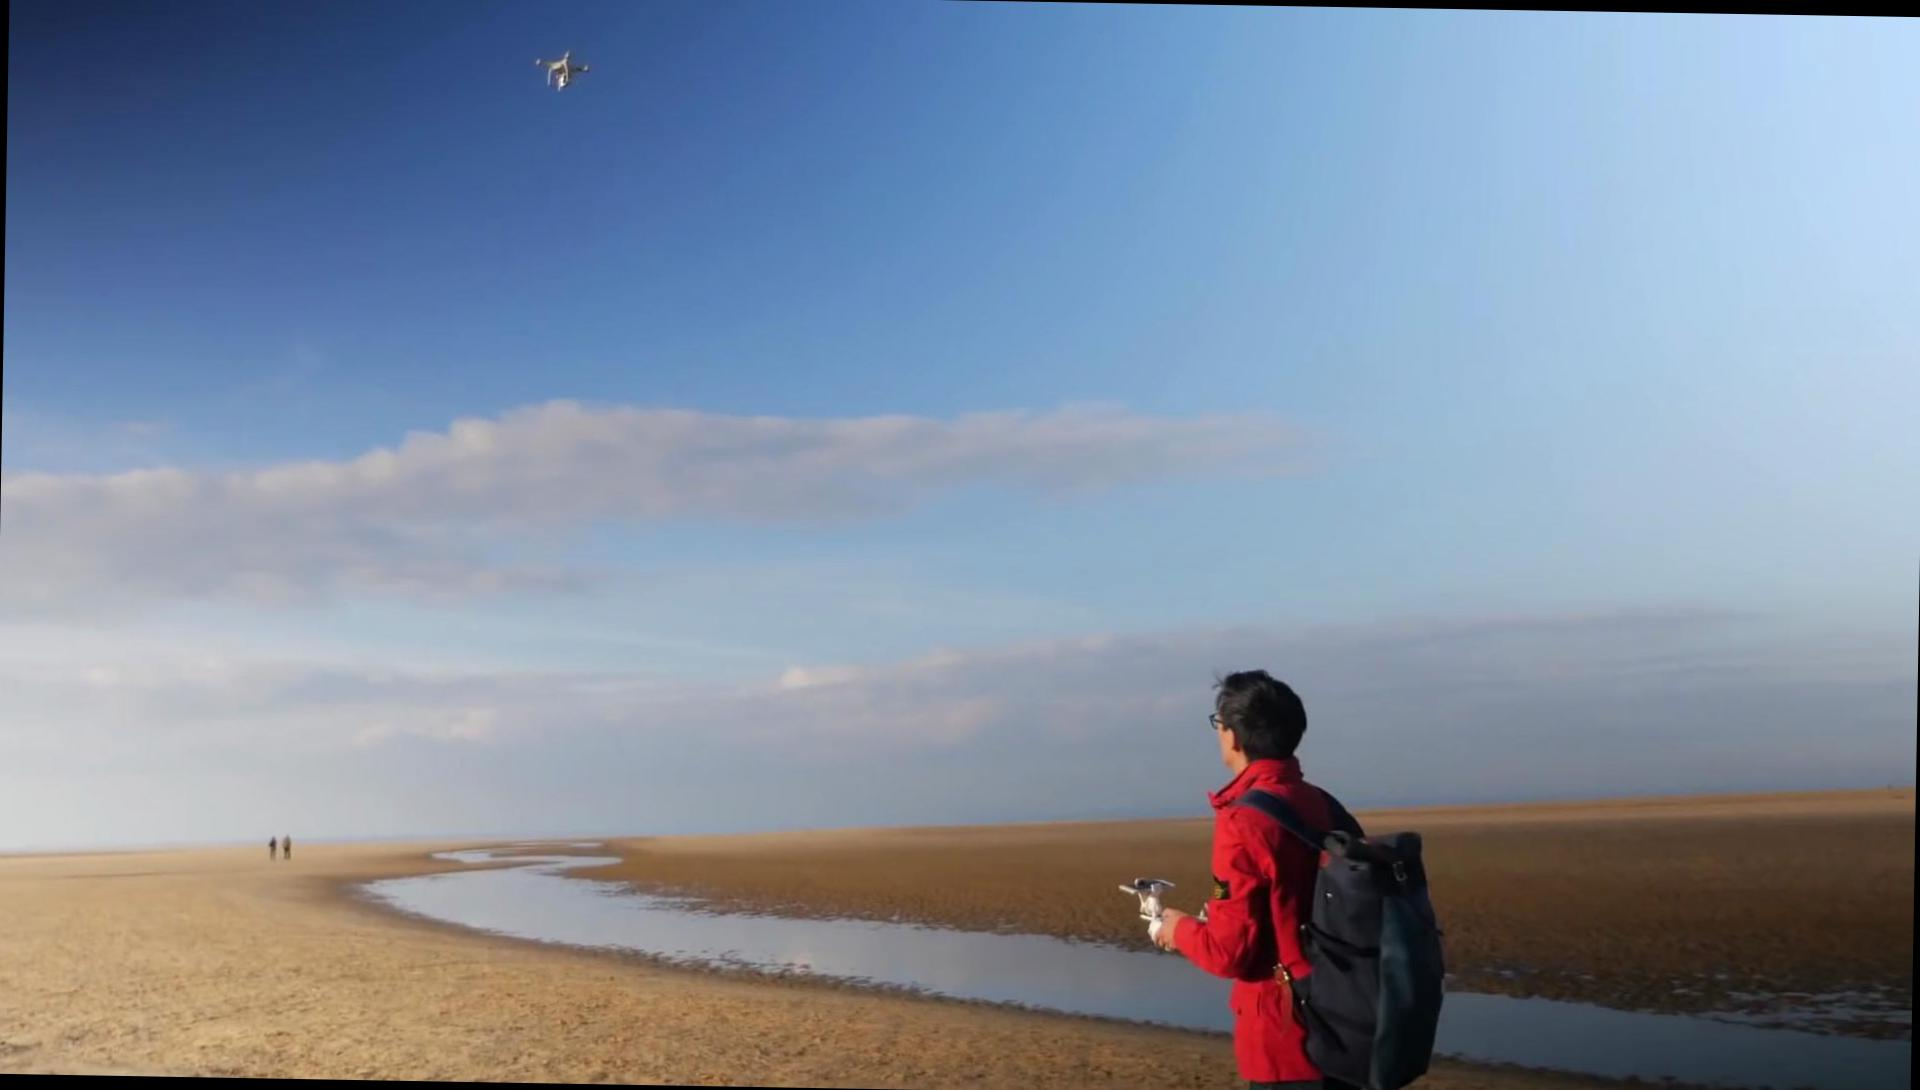drone: (531, 46, 596, 94)
